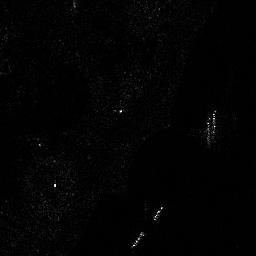ship: (131, 231, 145, 247), (154, 205, 164, 220)
